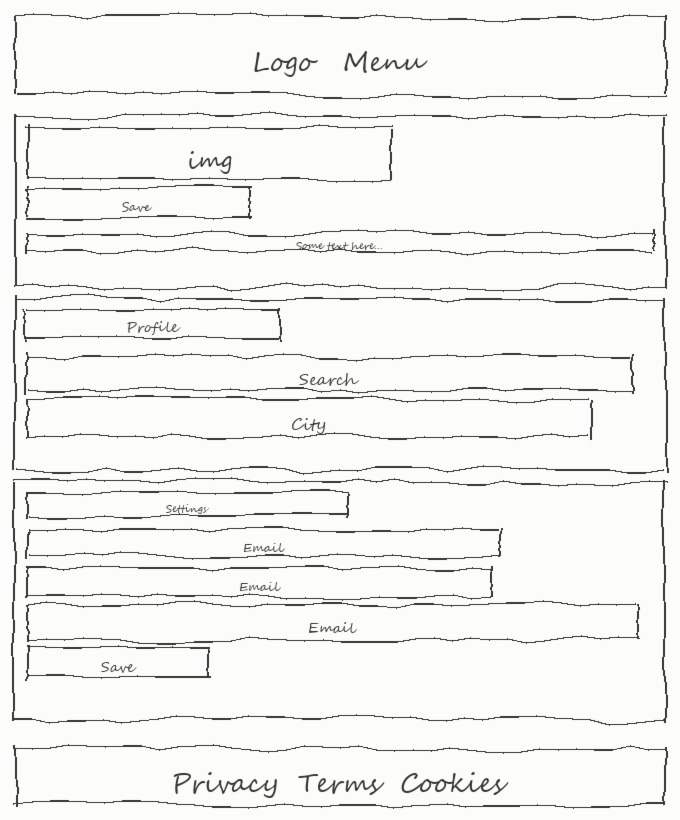card: (26, 355, 632, 392), (26, 401, 590, 438), (28, 606, 637, 639), (27, 127, 391, 179), (28, 529, 499, 557), (28, 568, 492, 596), (27, 232, 653, 252), (26, 308, 281, 340), (28, 493, 346, 517), (27, 189, 249, 217), (28, 646, 209, 678)
footer: (15, 747, 665, 805)
navbar: (15, 15, 665, 95)
section: (15, 480, 665, 721), (15, 297, 665, 470), (15, 115, 665, 287)
